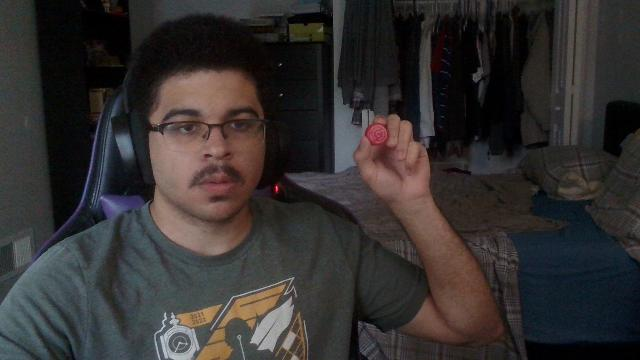cap: (365, 122, 389, 146)
